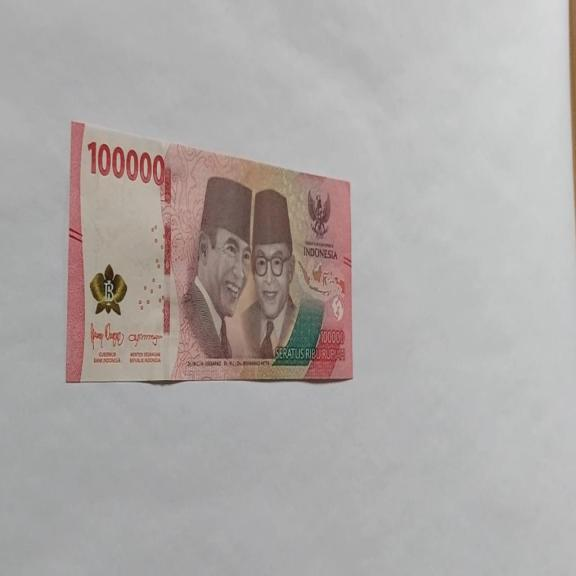Kertas: (66, 119, 354, 386), (86, 138, 166, 188)
